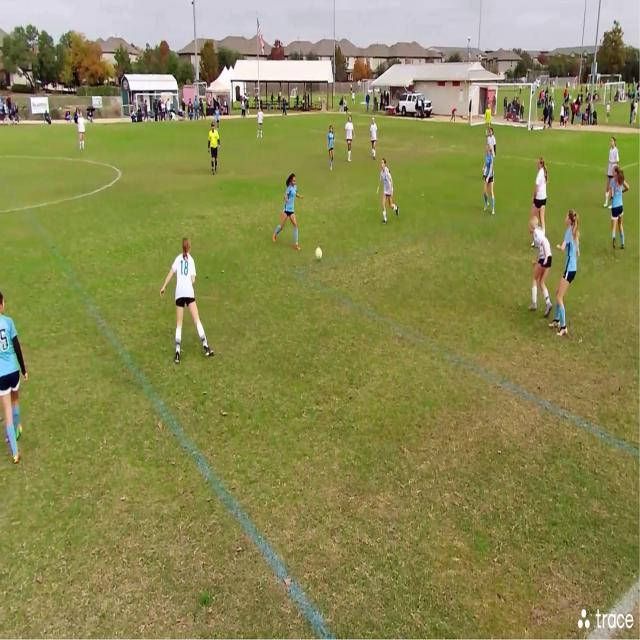ball: (314, 245, 323, 263)
team1: (0, 296, 30, 459), (561, 210, 582, 334), (278, 171, 302, 248), (609, 169, 630, 254), (482, 138, 497, 213), (328, 125, 338, 170), (214, 107, 222, 127)
team2: (166, 235, 213, 362), (530, 208, 558, 320), (533, 158, 552, 242), (380, 156, 400, 224), (606, 139, 620, 201), (345, 116, 355, 165), (78, 109, 88, 155), (369, 118, 379, 162), (258, 107, 266, 142), (488, 129, 498, 148)
